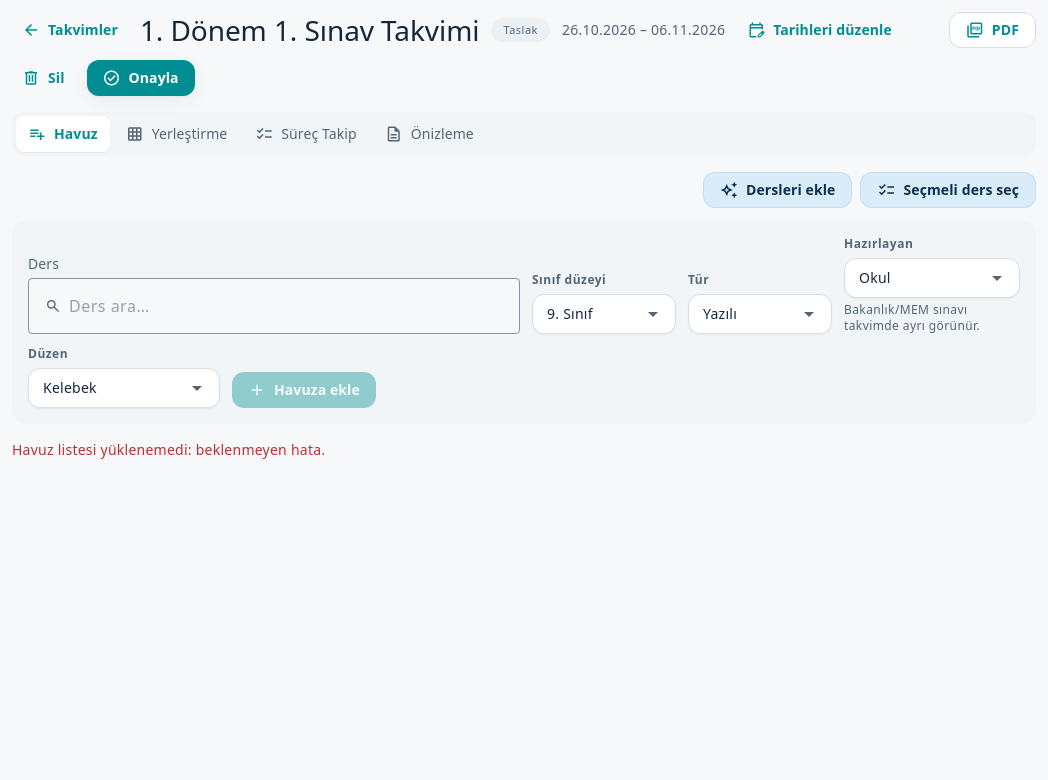
Scenario: TakvimDetayPage — onay akışı › sunum geçip onay takılırsa backend'in gerekçesi gösterilir
Click the button "Onayla". click: x=141, y=78
box: [87,60,195,96]
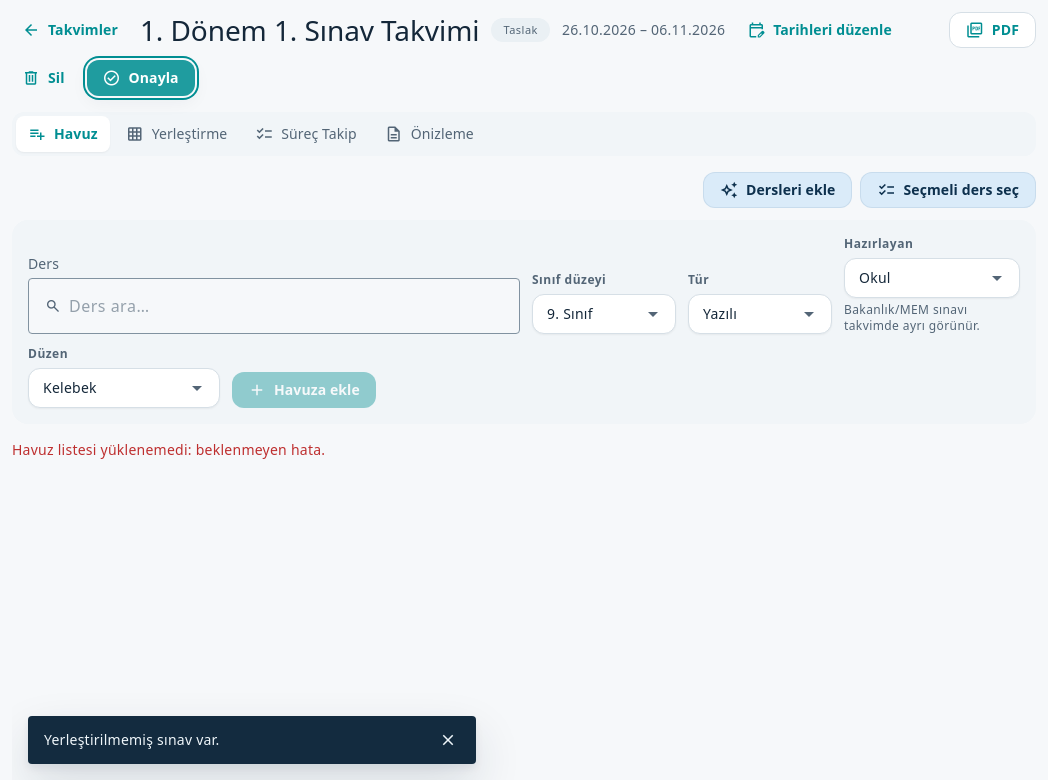
Expected: the text "Yerleştirilmemiş sınav var." is shown, [44,730,219,749]
